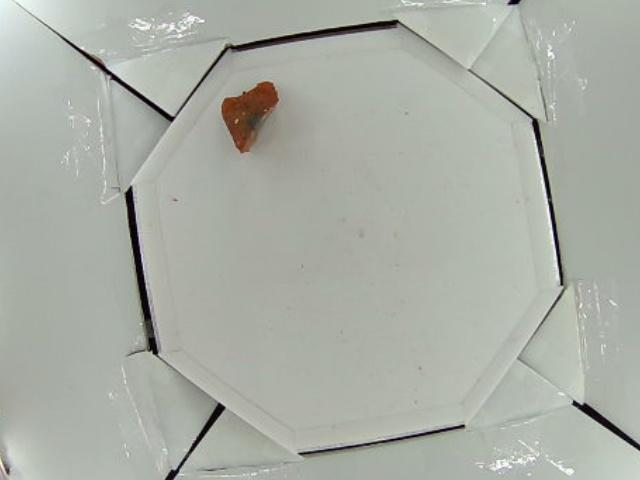Brisk: (220, 82, 279, 151)
